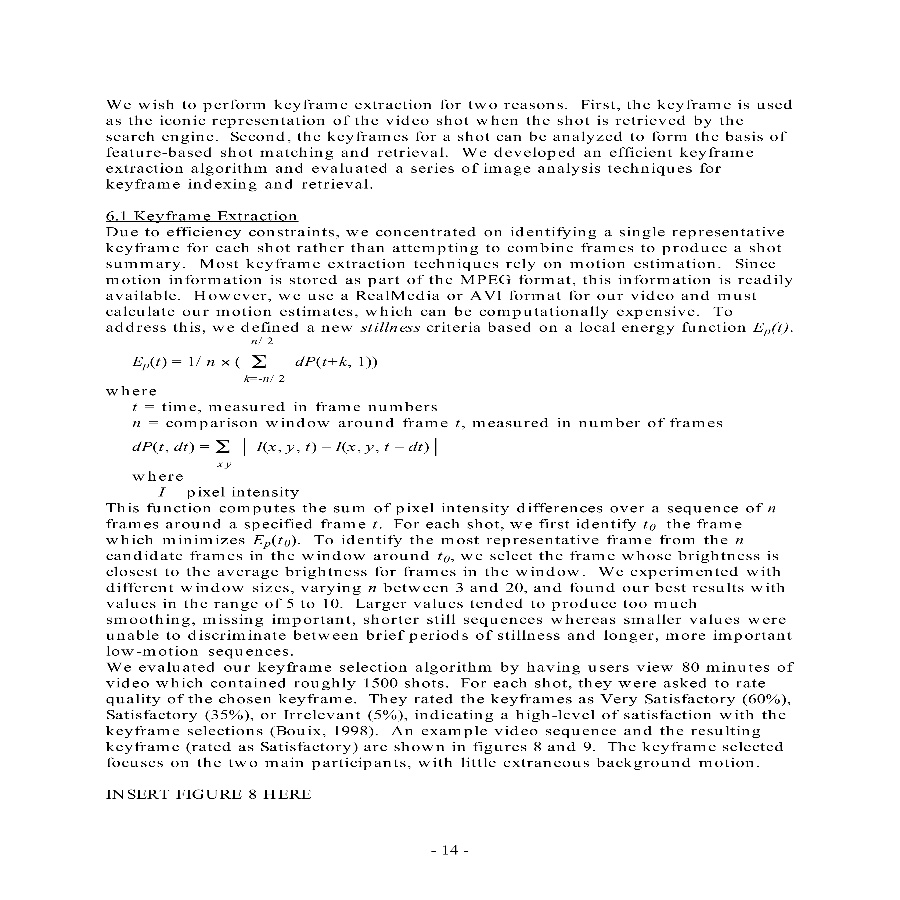eq: (131, 333, 380, 384), (129, 435, 441, 468)
